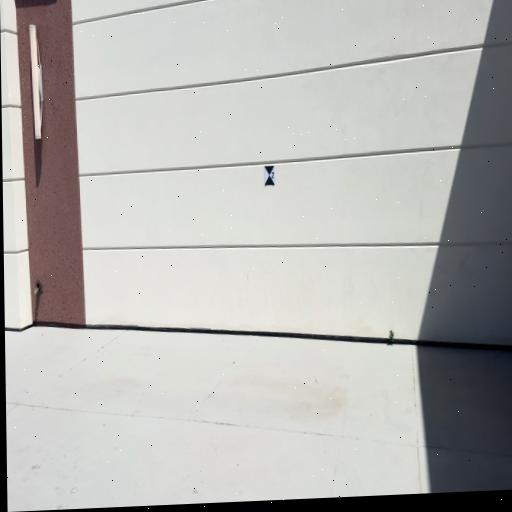target7: (264, 165, 275, 186)
